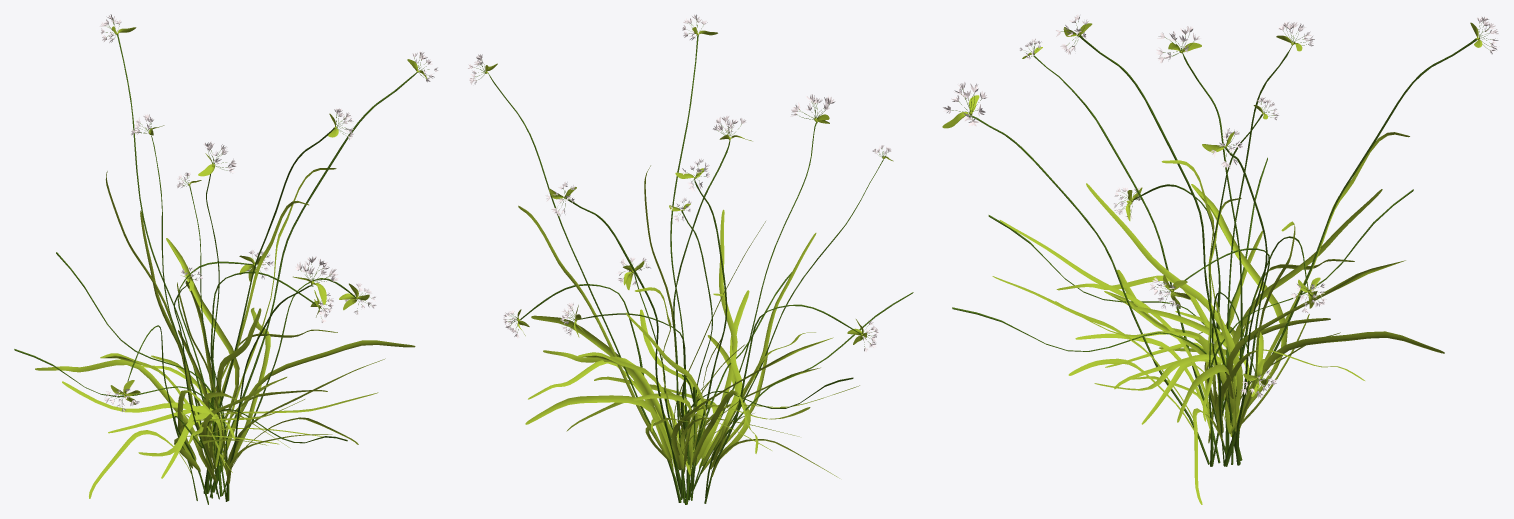
File: erigero del canada.glb
The picture shows the model from 3 angles, left to right: view 1: azimuth 30°, elevation 25°; view 2: azimuth 150°, elevation 25°; view 3: azimuth 270°, elevation 25°; orthographic projection. The views are drawn at different scales.
Visible parts, largest first — view 1: GS Autumn plant B 03; view 2: GS Autumn plant B 03; view 3: GS Autumn plant B 03.
Boxes of the visible parts, x1,y1,x2,y2 form: GS Autumn plant B 03: (14,14,437,504); GS Autumn plant B 03: (468,14,913,504); GS Autumn plant B 03: (942,14,1498,504).
Size of the model in its own units: 0.5891 by 0.5929 by 0.623.
